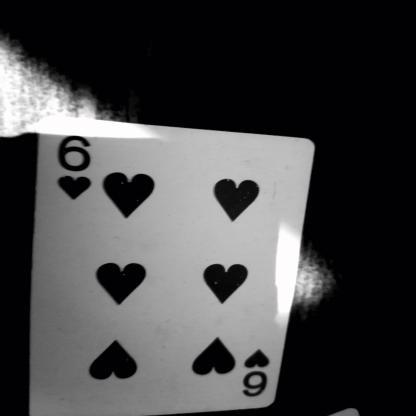6H: (48, 129, 108, 209)
